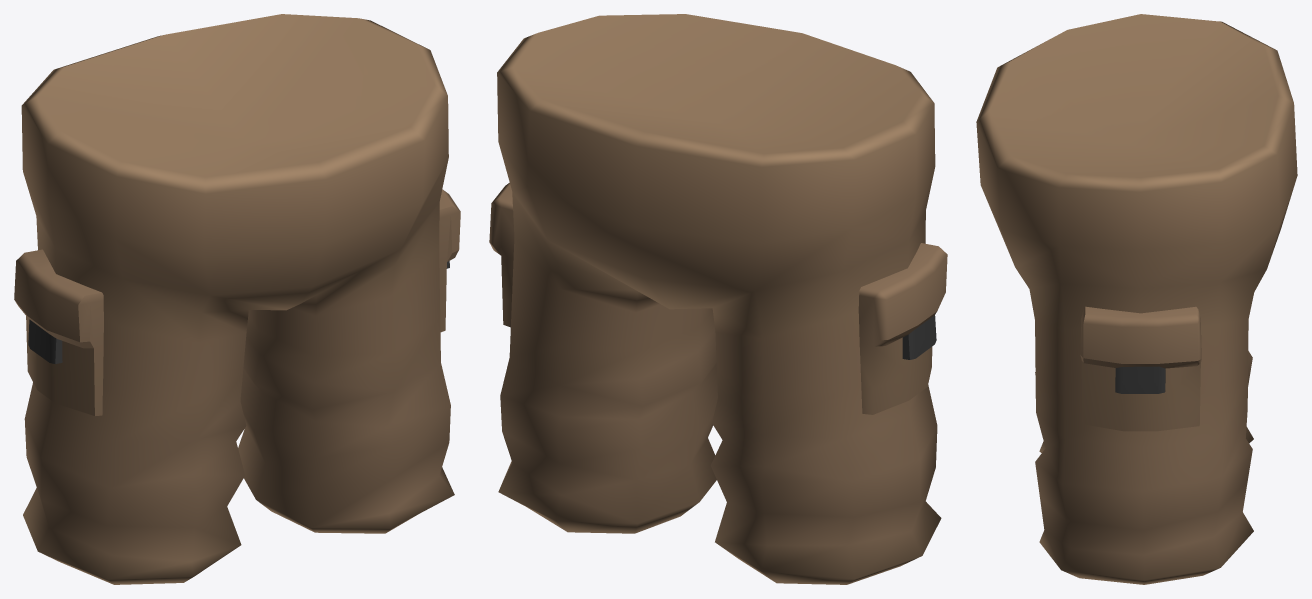
File: Bottom_18.fbx
The picture shows the model from 3 angles, left to right: view 1: azimuth 30°, elevation 25°; view 2: azimuth 150°, elevation 25°; view 3: azimuth 270°, elevation 25°; orthographic projection. The views are drawn at different scales.
Parts seen in each view (by area): view 1: Bottom_18; view 2: Bottom_18; view 3: Bottom_18.
Boxes of the visible parts, x1,y1,x2,y2 form: Bottom_18: [14, 14, 460, 584]; Bottom_18: [489, 14, 947, 584]; Bottom_18: [976, 14, 1297, 584].
Bounding box in the file's own units: 40.66 × 42.09 × 29.68.
